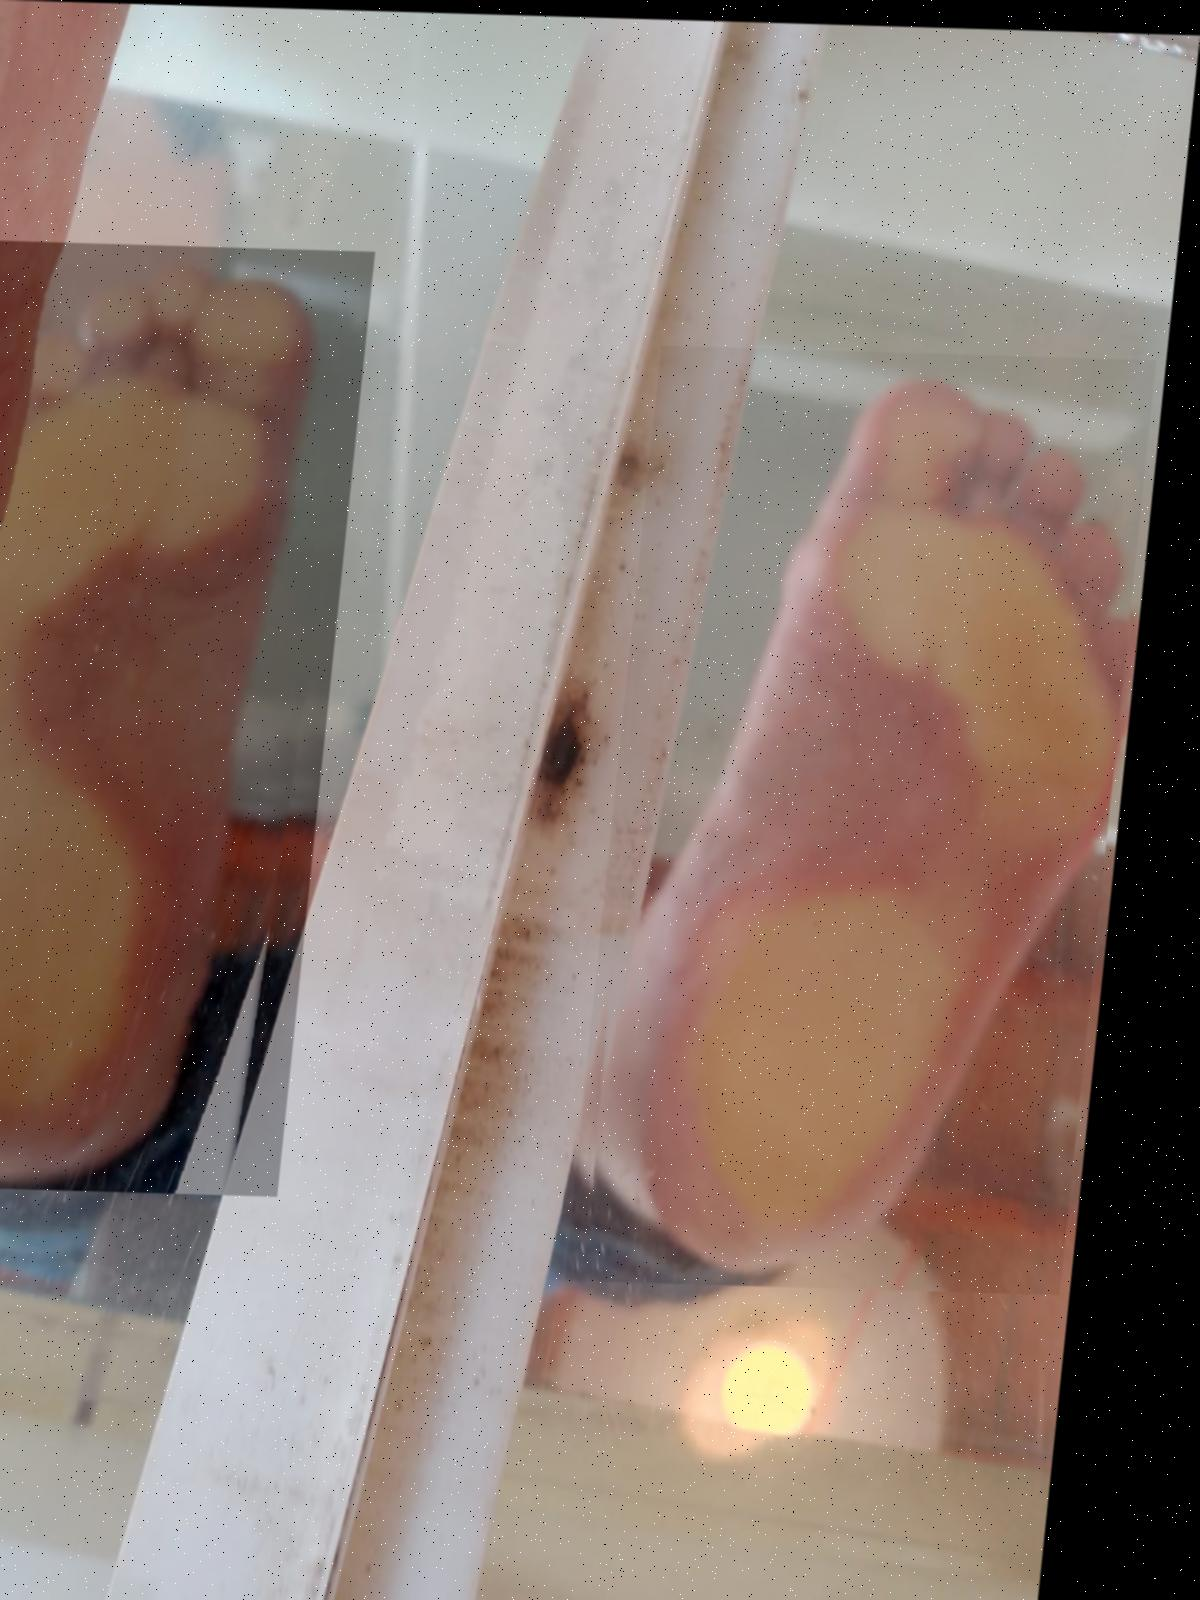9: (0, 239, 381, 1194)
Present: (592, 341, 1163, 1288)
